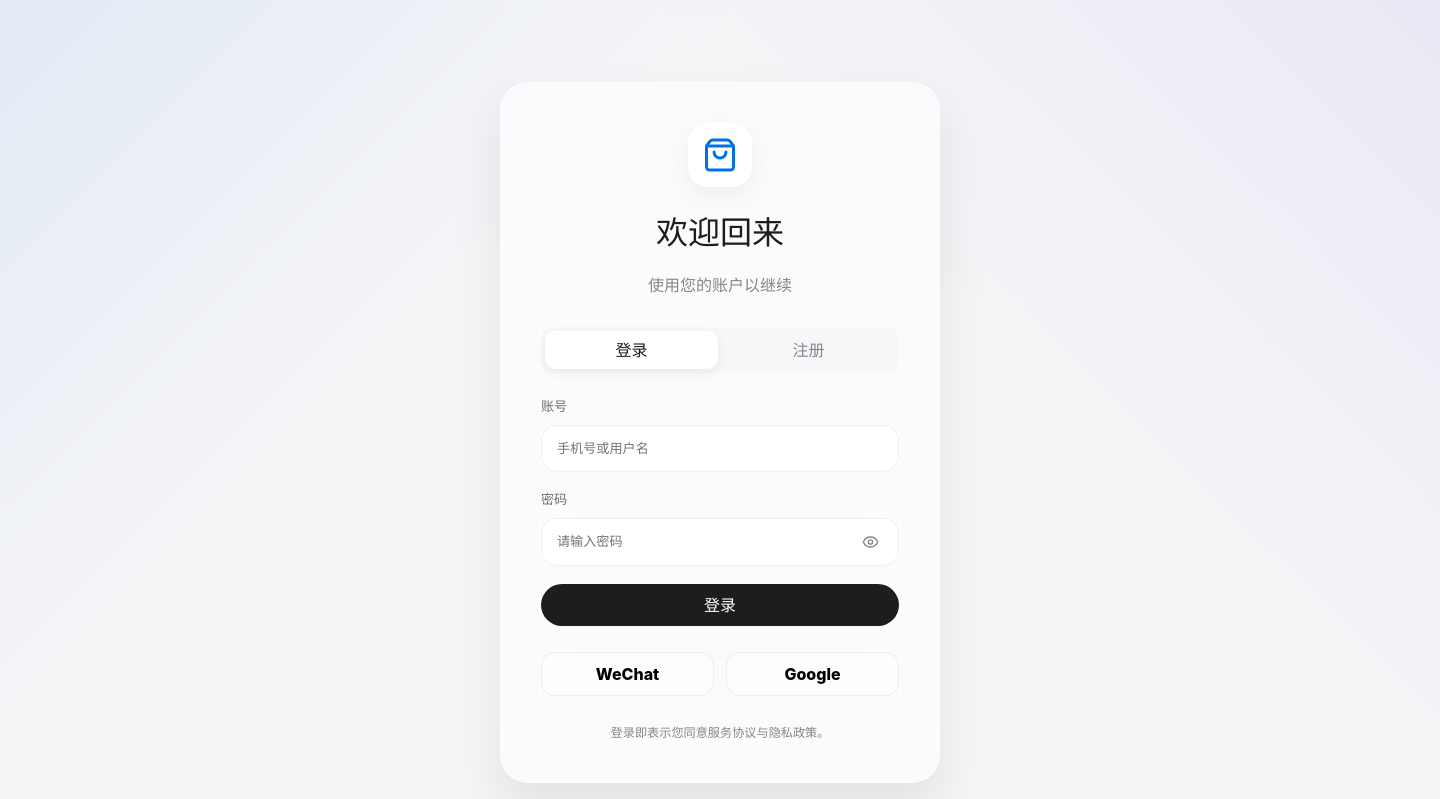
Test case: LoginView › shows registration failures without creating a fake account
The width and height of the screenshot is (1440, 799).
Step 1. Click the button "注册" → coordinates (808, 350), box [722,331,895,369]
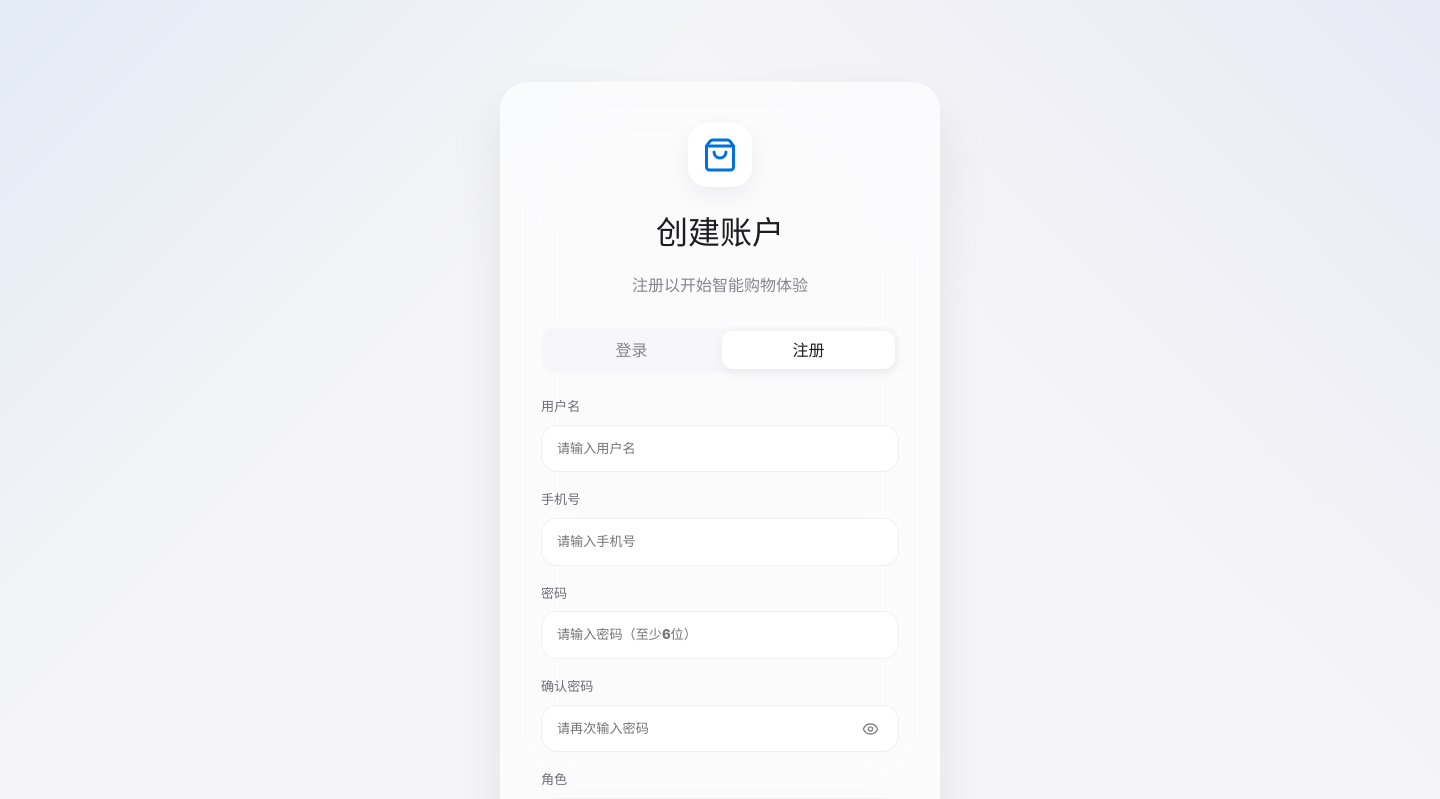
Step 2. Type "alice" into the field with placeholder "请输入用户名" → coordinates (720, 449), box [541,425,899,472]
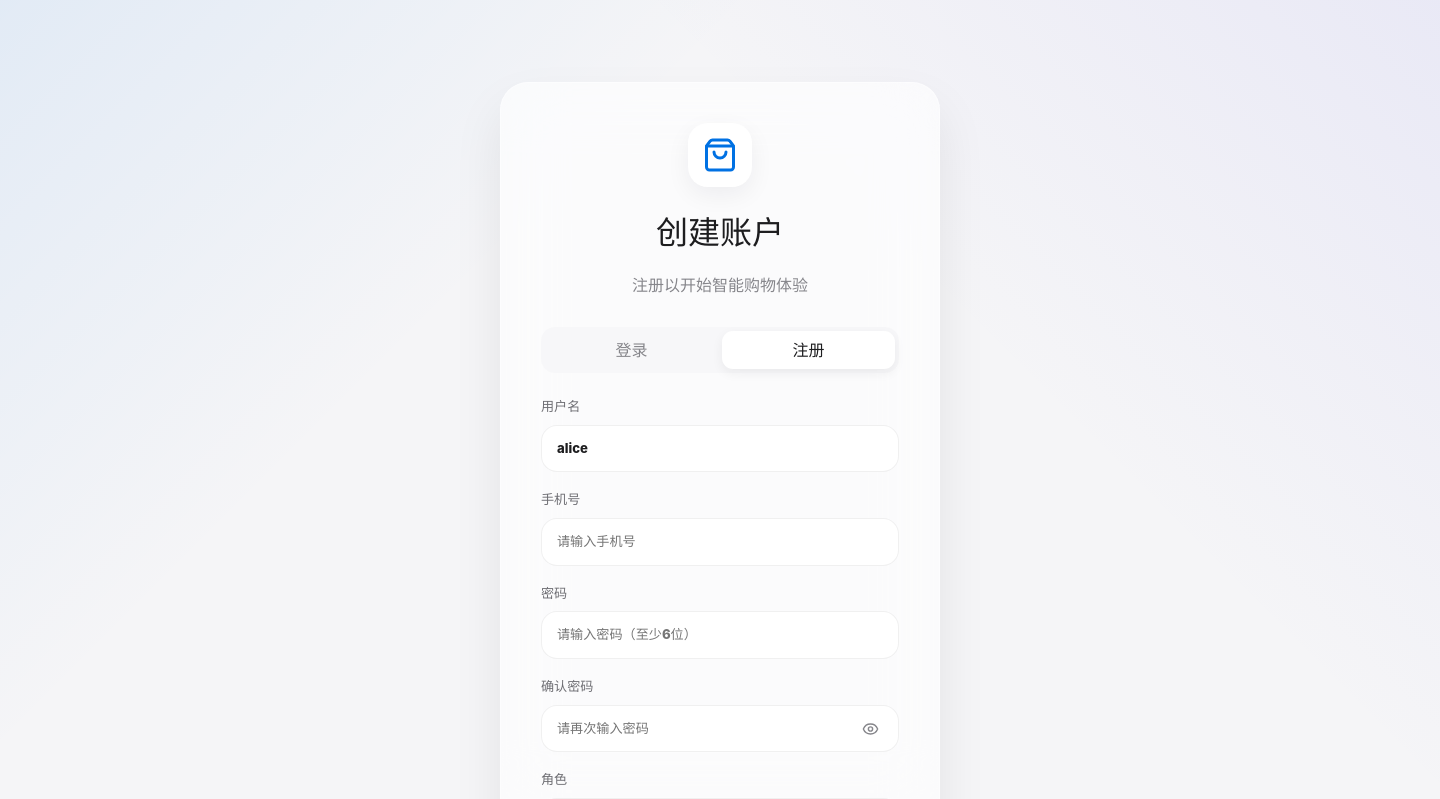
Step 3. Type "13800000000" into the field with placeholder "请输入手机号" → coordinates (720, 542), box [541,518,899,566]
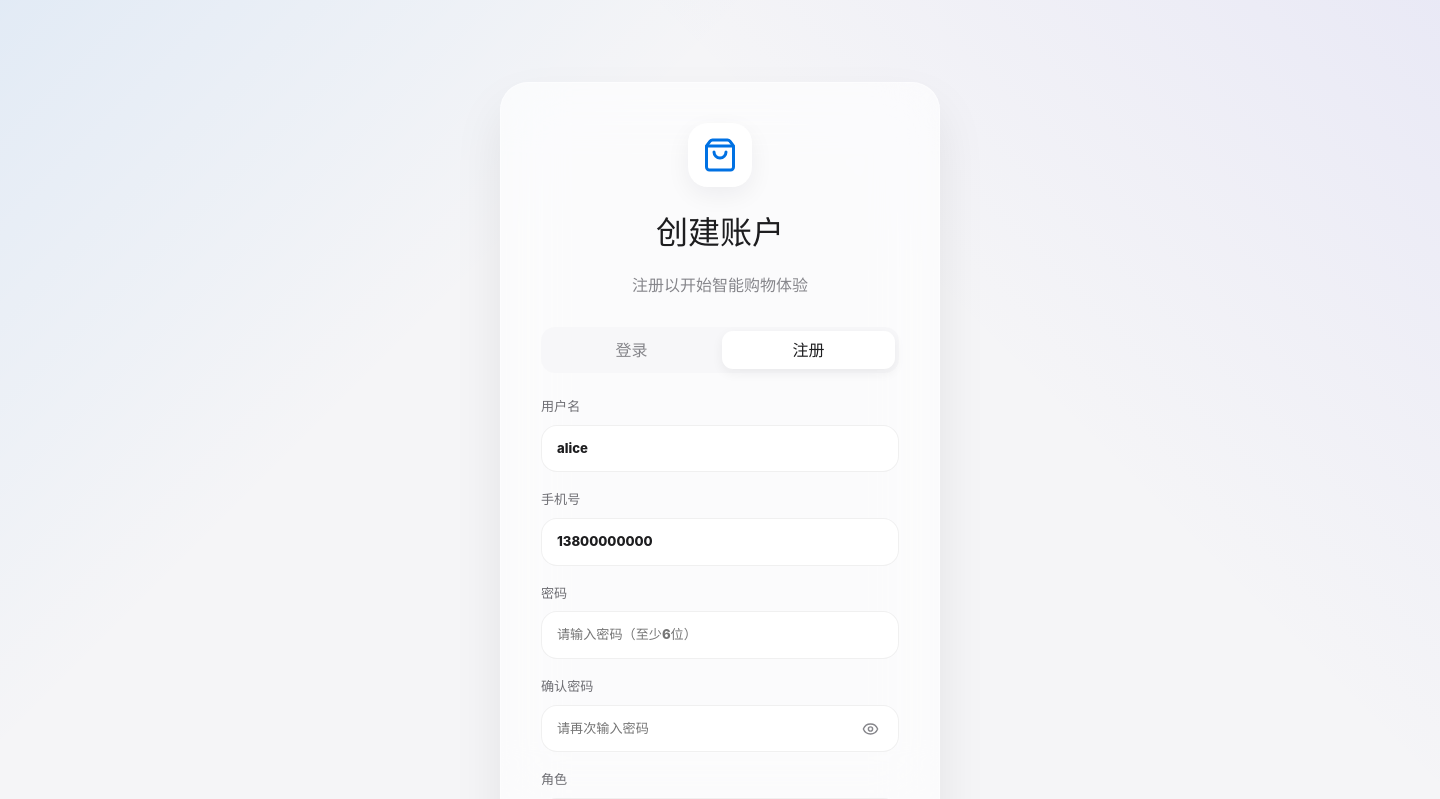
Step 4. Type "Password123!" into the password field with placeholder "请输入密码（至少6位）" → coordinates (720, 635), box [541,611,899,659]
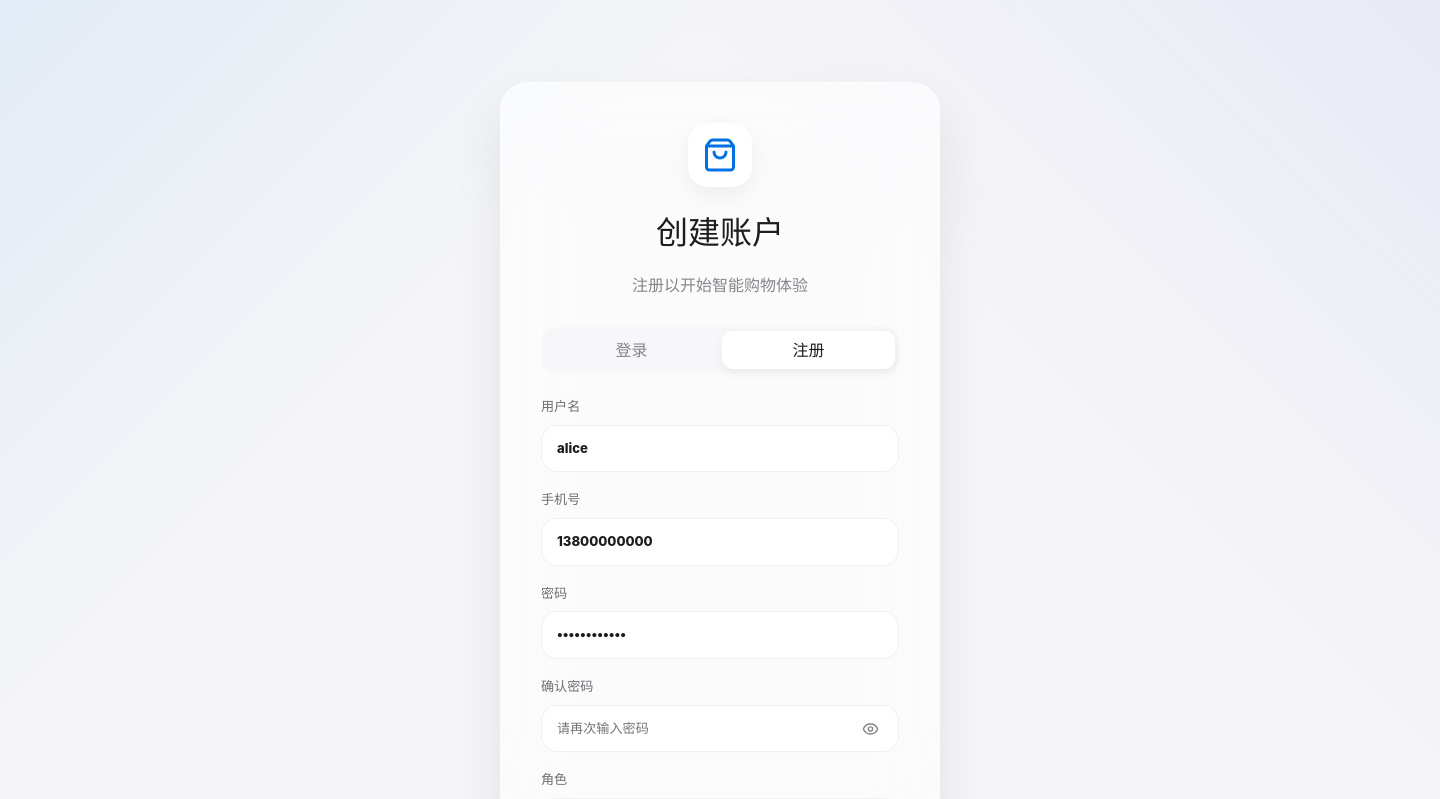
Step 5. Type "Password123!" into the password field with placeholder "请再次输入密码" → coordinates (720, 729), box [541,705,899,752]
(page scrolled)
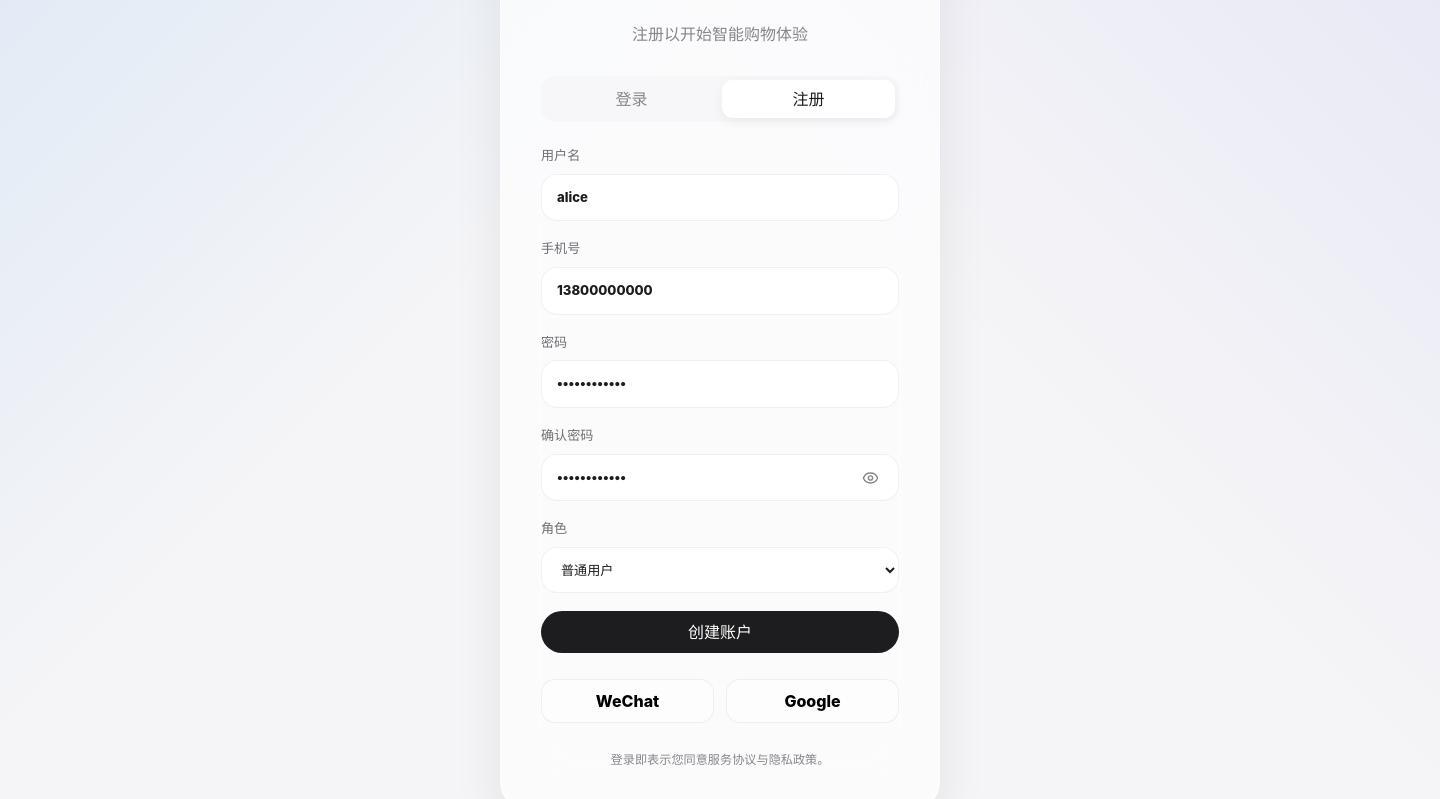
Step 6. Submit the form, box [541,146,899,653]
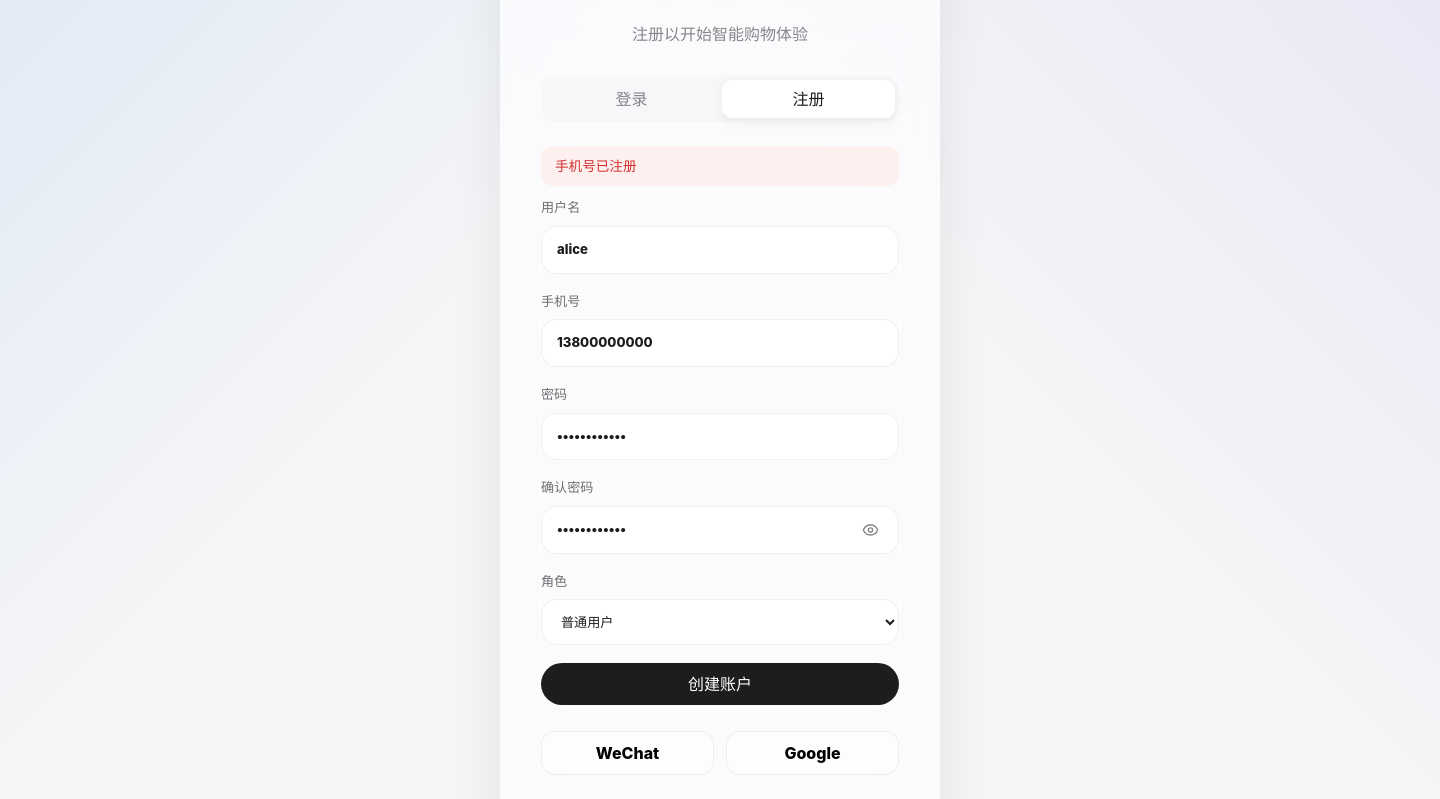
expect the text "手机号已注册" is shown: met, box [541,146,899,186]
